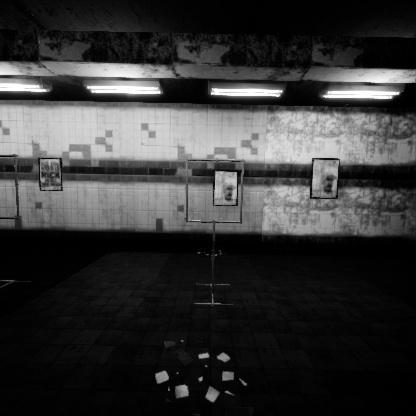gate: (186, 191, 250, 258)
